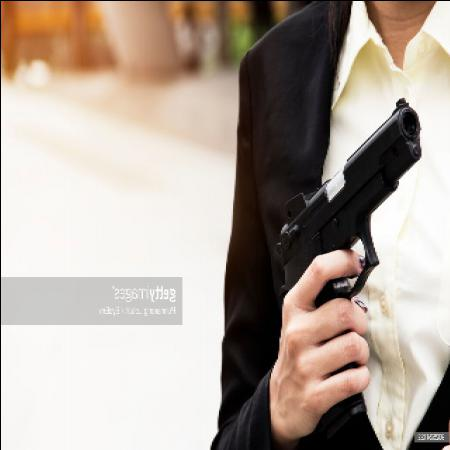Pistol: (270, 93, 424, 321)
